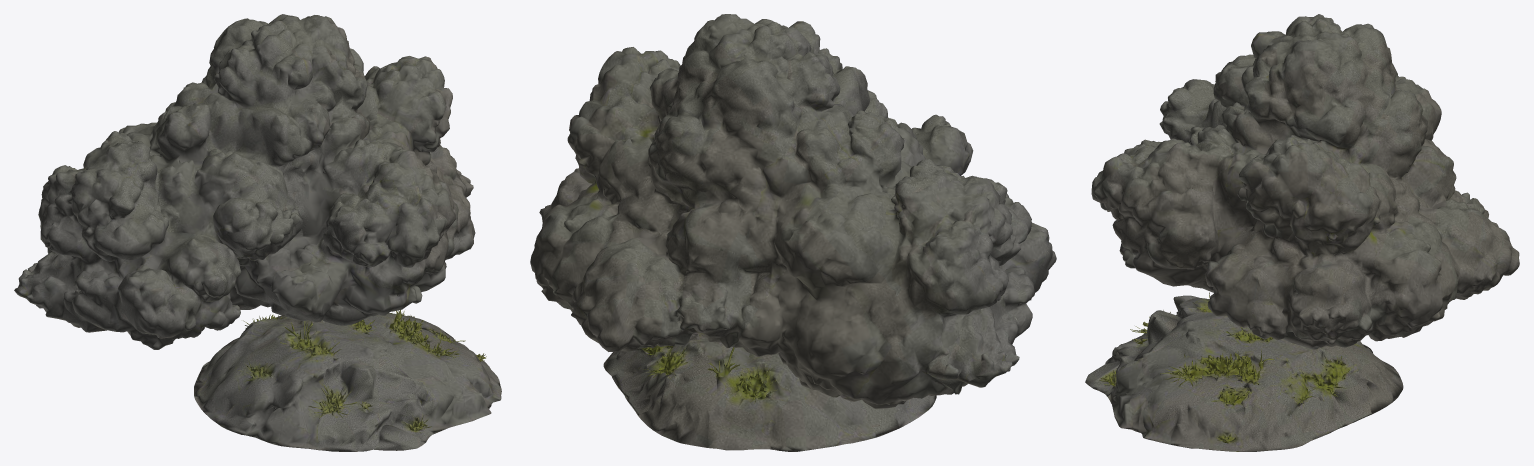
File: cloud_runner_port_cumulusTowerA.3b883368.glb
3 renders of one model, left to right at view 1: azimuth 30°, elevation 25°; view 2: azimuth 150°, elevation 25°; view 3: azimuth 270°, elevation 25°, orthographic. The views are drawn at different scales.
Size of the model in its own units: 1.9 by 1.47 by 1.64.
Materials: 1 (1 with a texture image).
